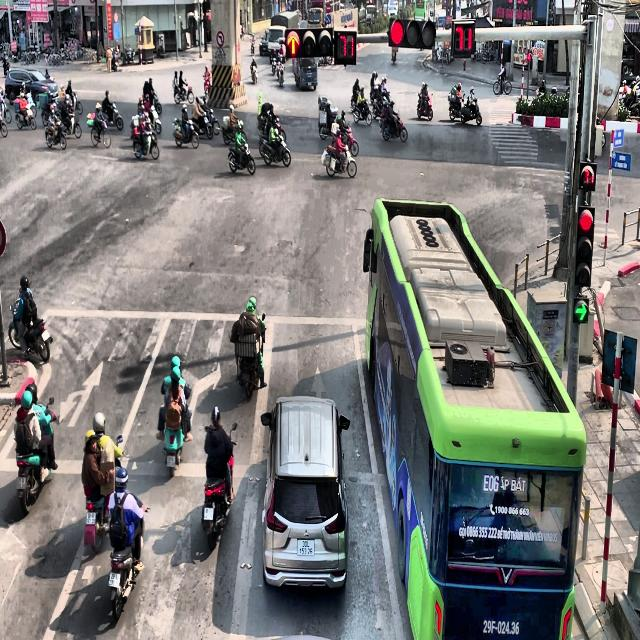BUS: (362, 197, 586, 639)
CAR: (260, 395, 350, 590), (5, 68, 58, 106)
MOTORBIKE: (15, 398, 57, 515), (84, 434, 124, 553), (108, 504, 149, 620), (201, 422, 237, 550), (8, 302, 52, 362), (235, 313, 266, 398), (162, 401, 184, 477), (325, 143, 357, 178), (259, 131, 291, 166), (228, 140, 255, 174), (380, 111, 408, 143), (172, 116, 199, 148), (133, 127, 159, 160), (43, 116, 67, 149), (90, 115, 110, 148), (460, 96, 482, 125), (60, 109, 82, 138), (339, 125, 358, 156), (102, 102, 123, 130), (14, 104, 36, 130), (192, 113, 214, 139), (352, 98, 372, 126), (448, 92, 466, 120), (173, 82, 194, 105), (373, 96, 393, 120), (146, 105, 162, 134), (417, 92, 433, 120), (493, 72, 512, 95), (351, 87, 366, 113), (70, 92, 82, 115), (276, 61, 285, 86), (250, 58, 258, 84), (269, 52, 278, 74)
TRAFFIC_LIGHT: (574, 204, 594, 288), (388, 17, 436, 49), (285, 27, 333, 58), (452, 20, 475, 56), (334, 30, 357, 64), (579, 161, 596, 191)
